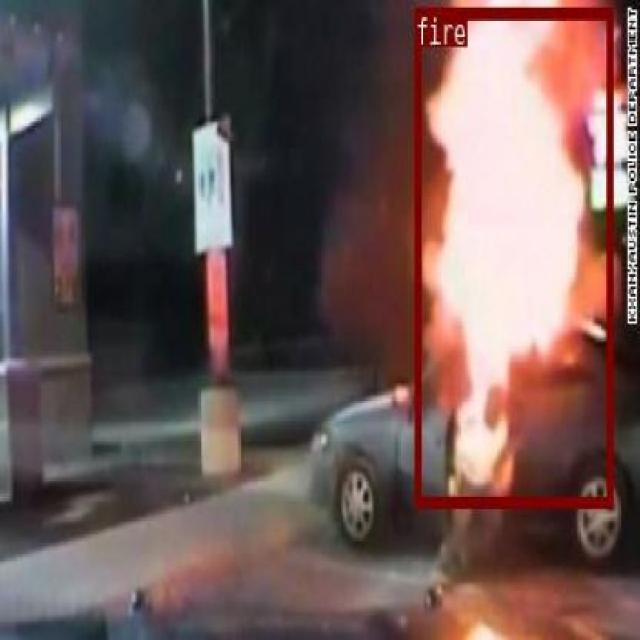Fire: (414, 4, 612, 504)
